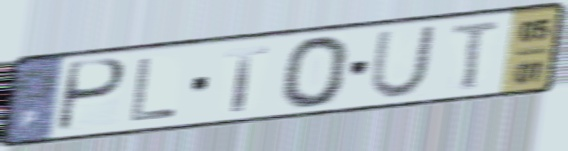L: (126, 55, 181, 125)
O: (278, 33, 353, 112)
P: (52, 56, 129, 135)
T: (448, 17, 504, 94), (221, 43, 272, 114)
U: (365, 22, 441, 101)
